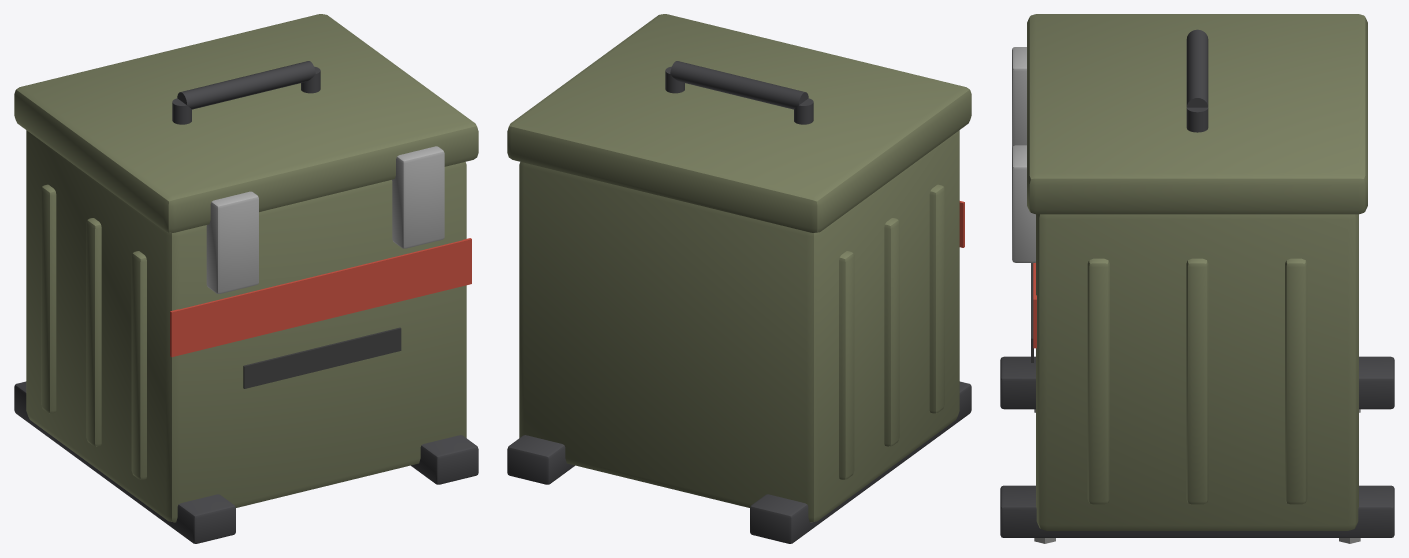
File: ammo.glb
The picture shows the model from 3 angles, left to right: view 1: azimuth 30°, elevation 25°; view 2: azimuth 150°, elevation 25°; view 3: azimuth 270°, elevation 25°; orthographic projection. The views are drawn at different scales.
Visible parts, largest first — view 1: Part; view 2: Part; view 3: Part.
Boxes of the visible parts, left/top/right/bottom form: Part: left=14, top=14, right=478, bottom=543; Part: left=507, top=14, right=971, bottom=543; Part: left=1000, top=14, right=1394, bottom=543.
Size of the model in its own units: 0.44 by 0.505 by 0.44.
